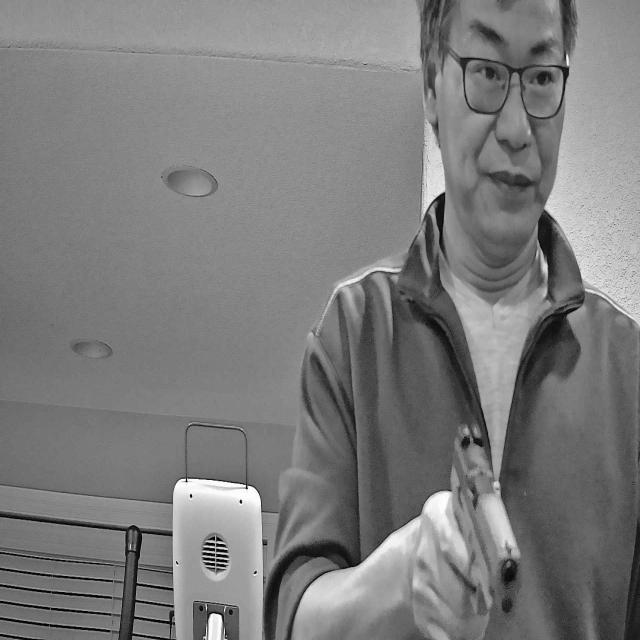Hand-Gun: (408, 388, 592, 640)
